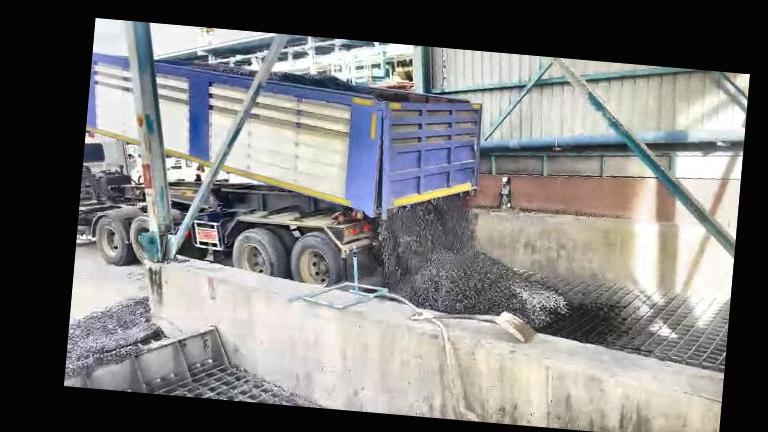gravel: (377, 196, 568, 328), (66, 297, 160, 376), (269, 71, 381, 99), (183, 62, 256, 77)
